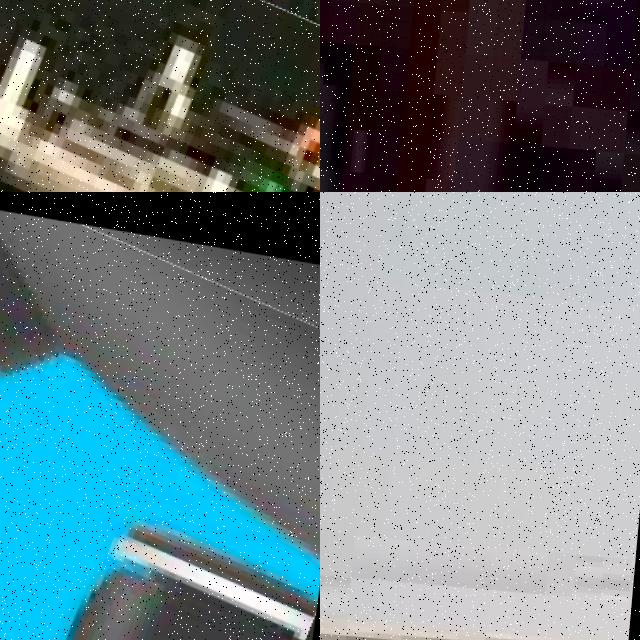drone: (0, 192, 320, 640), (0, 0, 320, 192)
